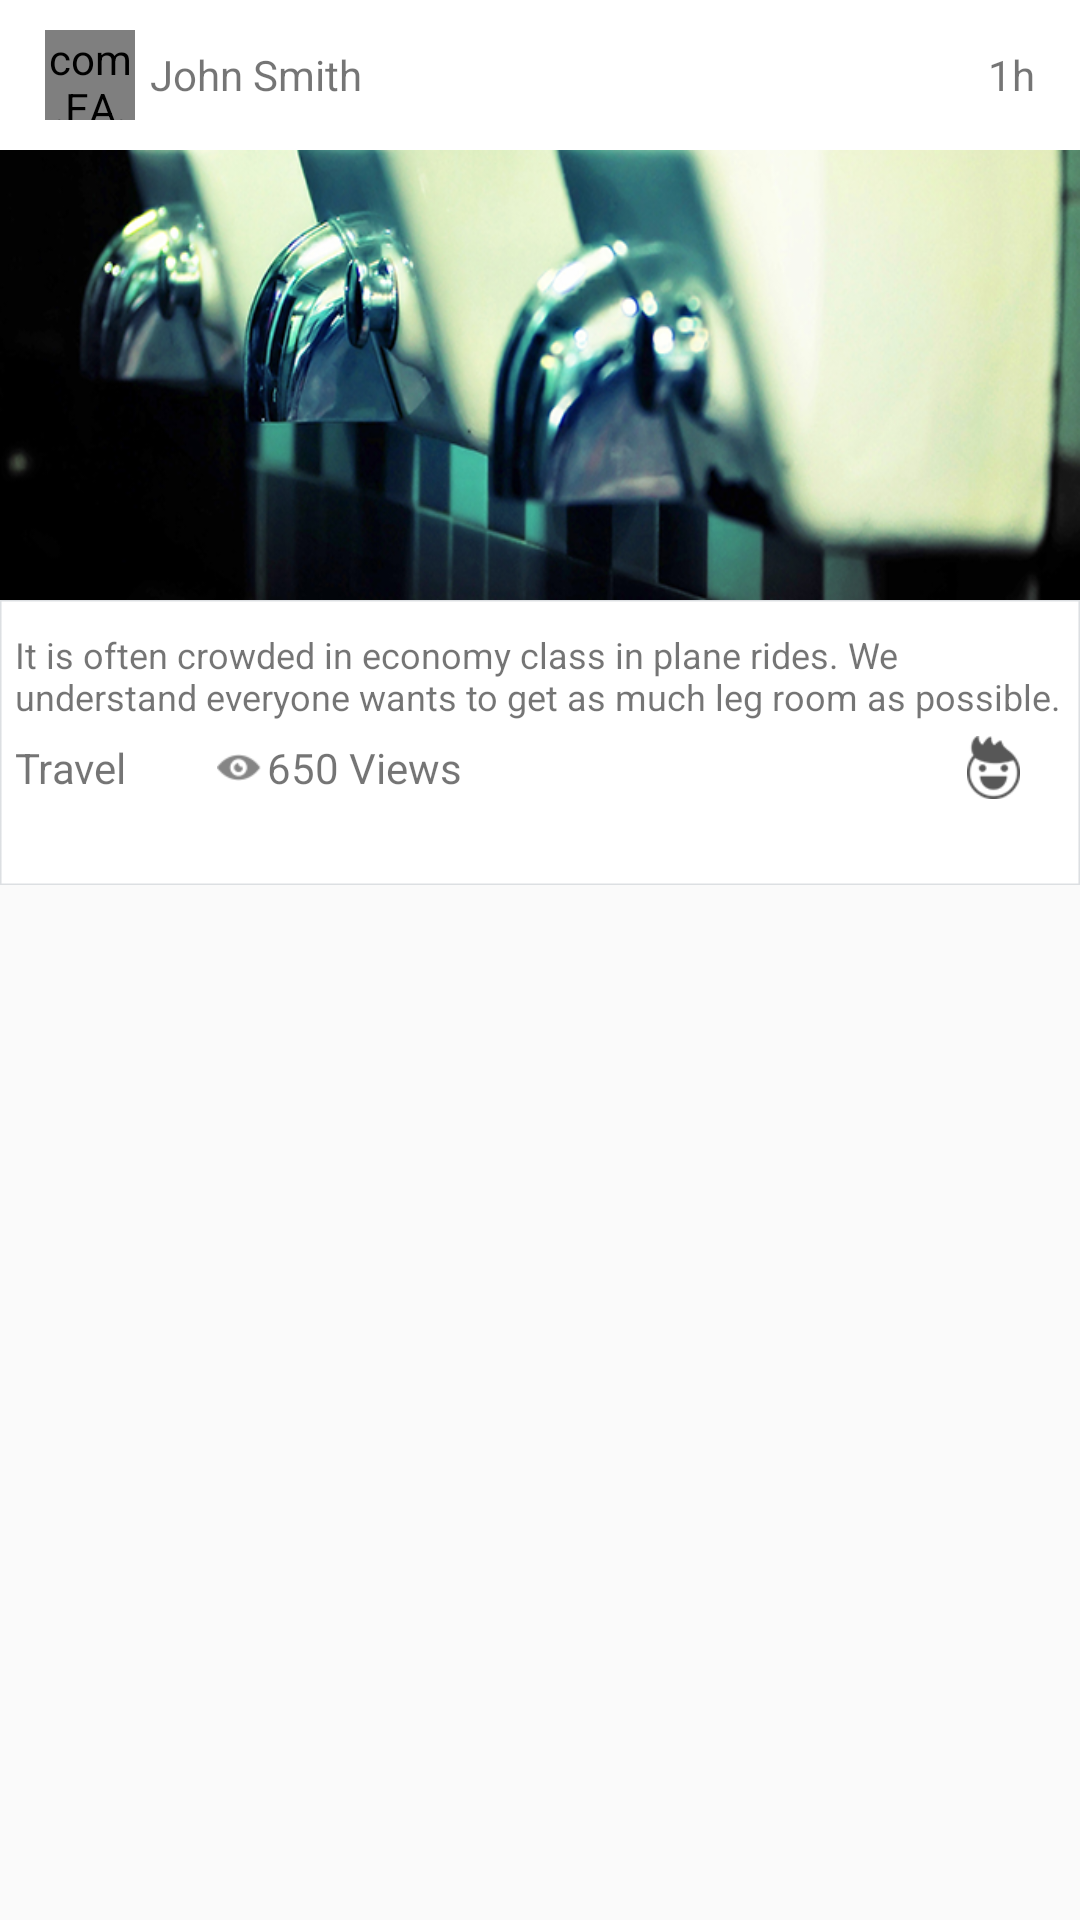

Named icons in this screenshot (1080 x 1920) and their centers, [x,y]:
eye: [238,767]
